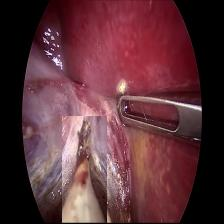Grasper: (118, 89, 204, 149)
Hook: (62, 116, 107, 224)
